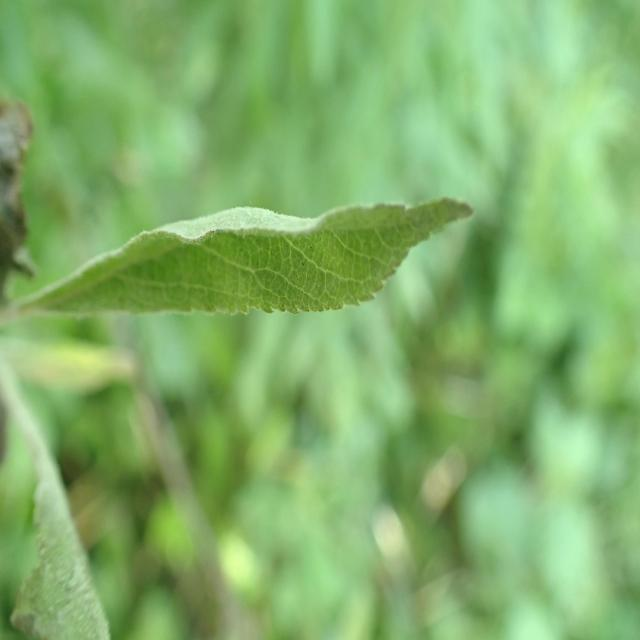Powdery_mildew: (24, 190, 488, 324), (0, 360, 127, 640)
